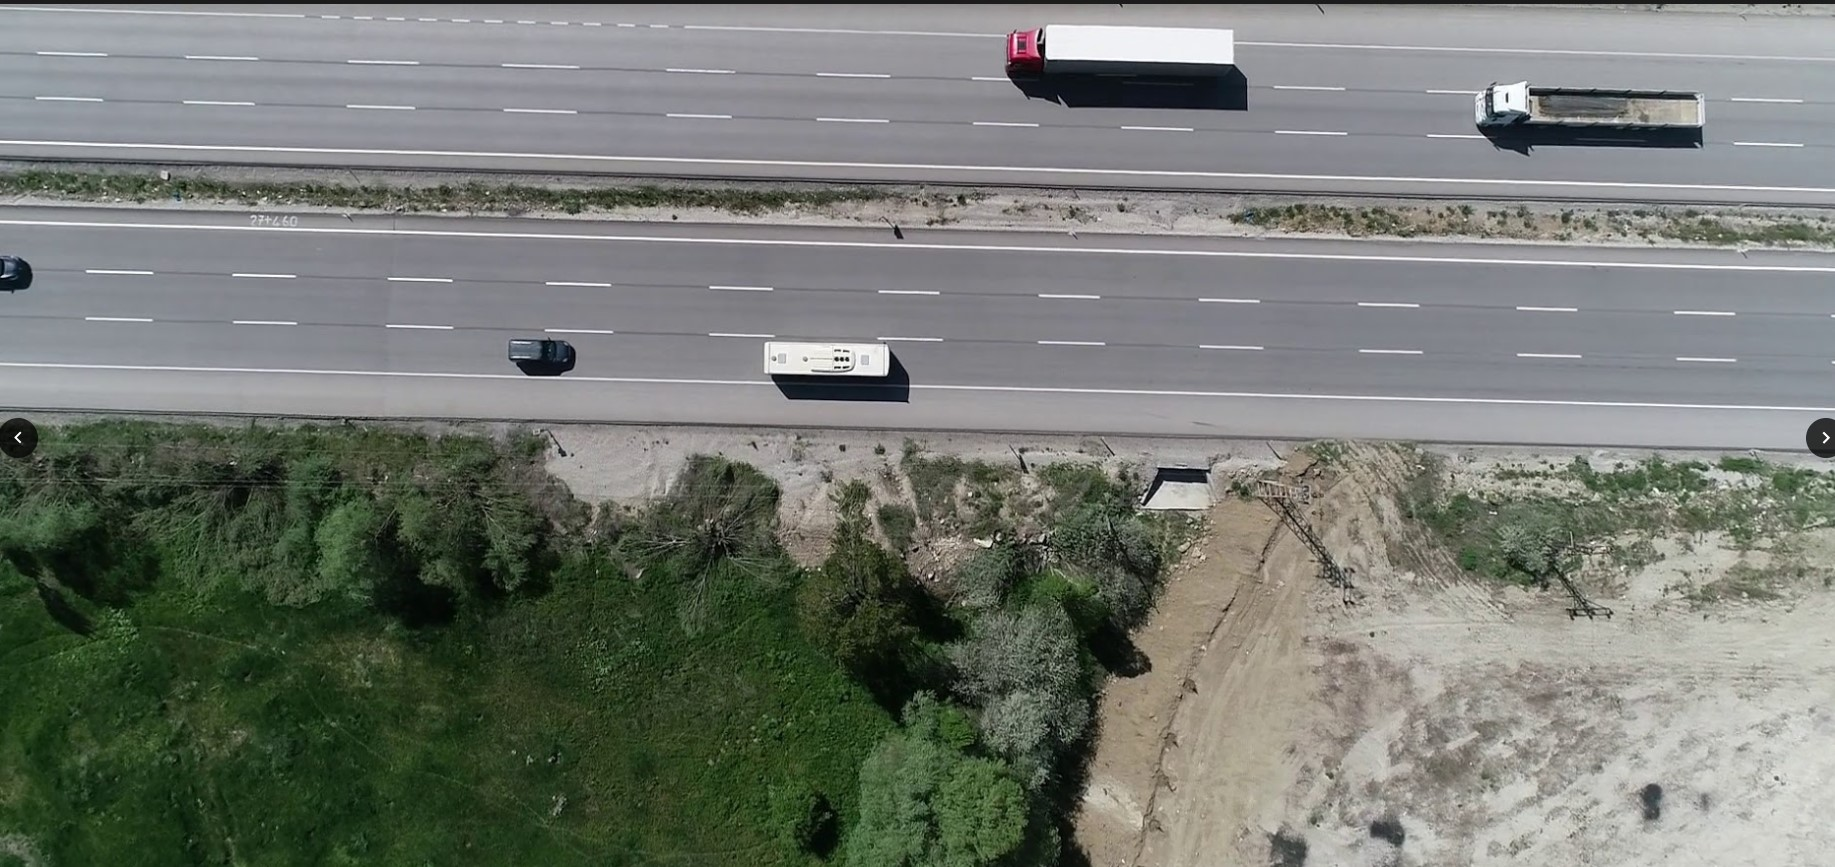araba: (508, 336, 573, 369), (1, 256, 27, 290)
kamyon: (1479, 84, 1707, 140), (1006, 25, 1238, 78)
otobus: (762, 340, 892, 378)
